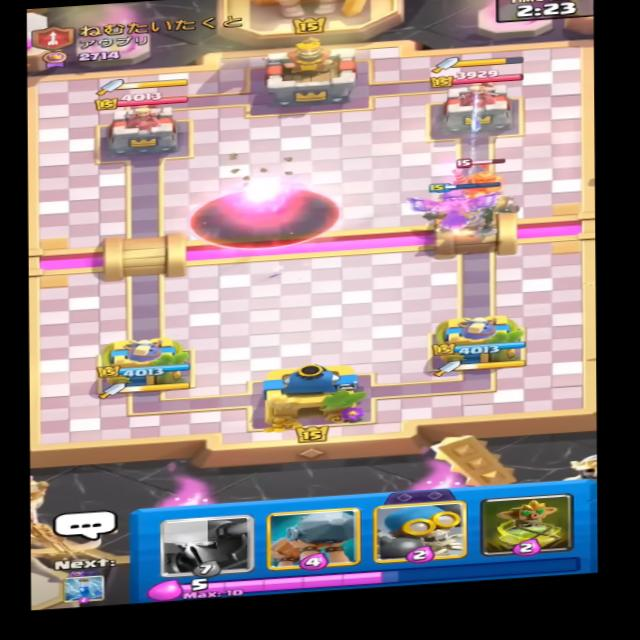prince: (453, 153, 514, 205)
